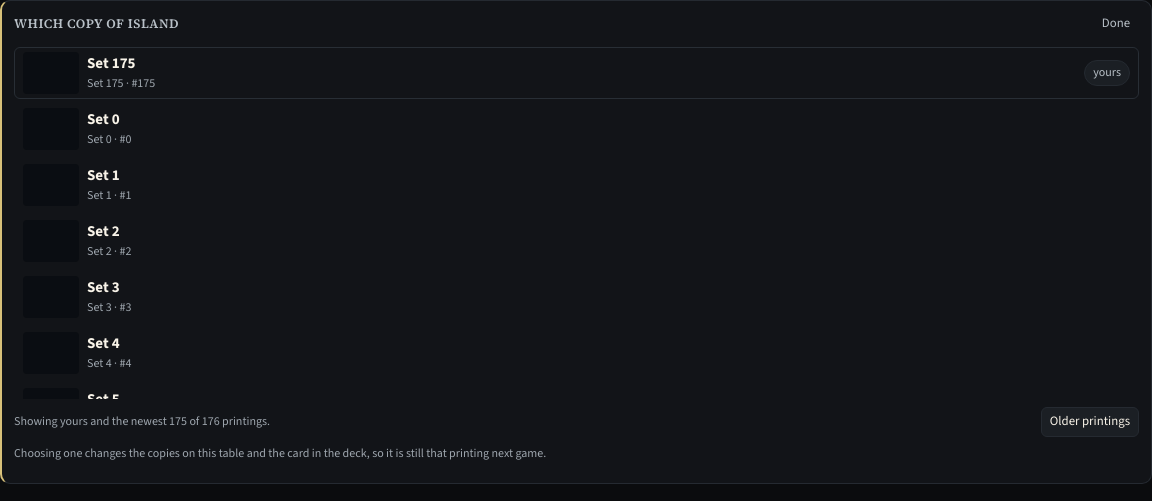
it: the printings picker › moves focus to the count when the page brought nothing that was not listed already
This screenshot has width=1152, height=501.
What coordinates should you click on to do the following:
click the button "Older printings"
I would click on:
 (1090, 422)
Its box is x1=1041 y1=407 x2=1139 y2=437.
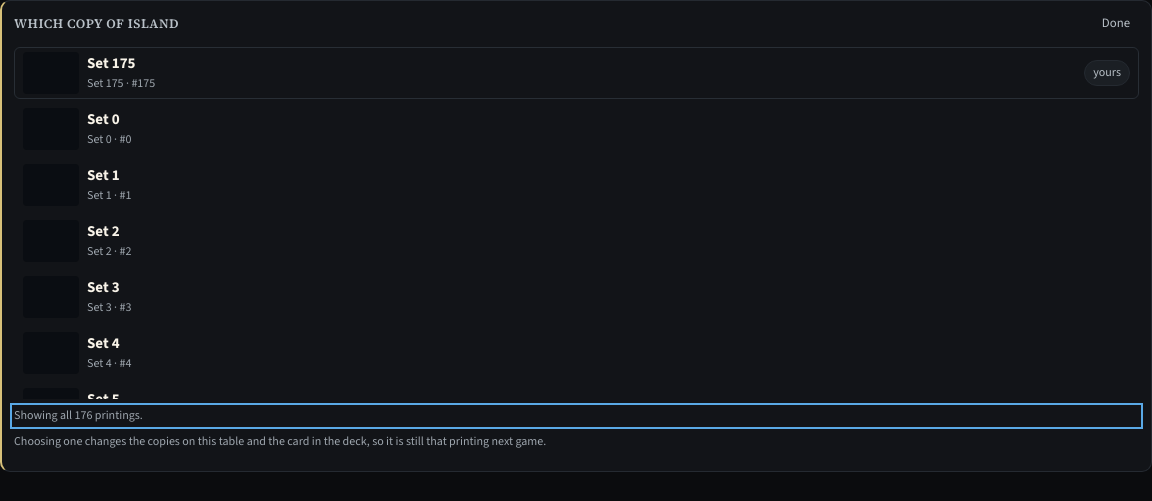
Now the text "Showing all 176 printings." is shown, box x1=14 y1=407 x2=143 y2=424
